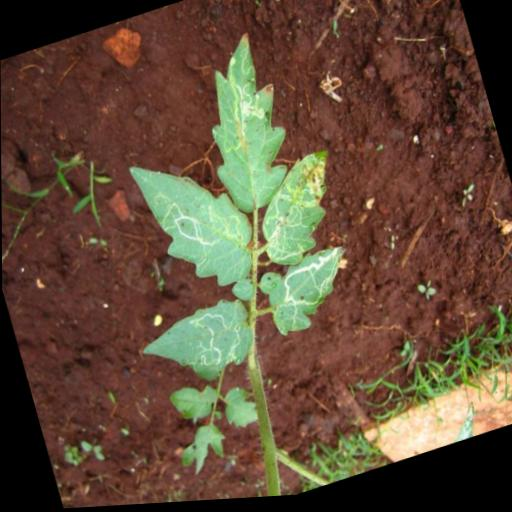Leaf_Miner: (125, 131, 265, 311), (182, 28, 304, 225), (242, 149, 355, 278), (135, 292, 265, 401), (258, 244, 364, 343)
